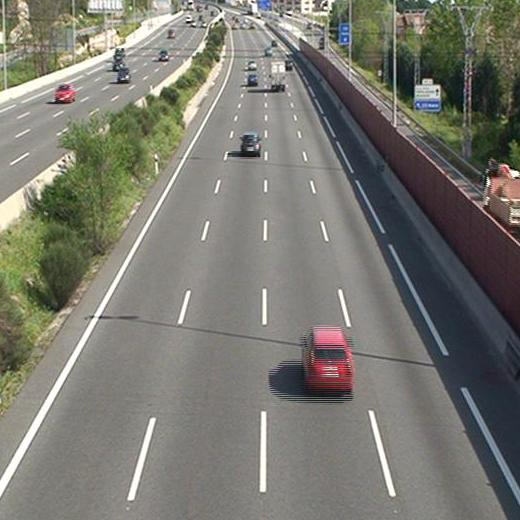car: (303, 329, 354, 390), (240, 132, 261, 154), (246, 73, 258, 85), (246, 60, 256, 70)
small-truck: (270, 61, 285, 88)
